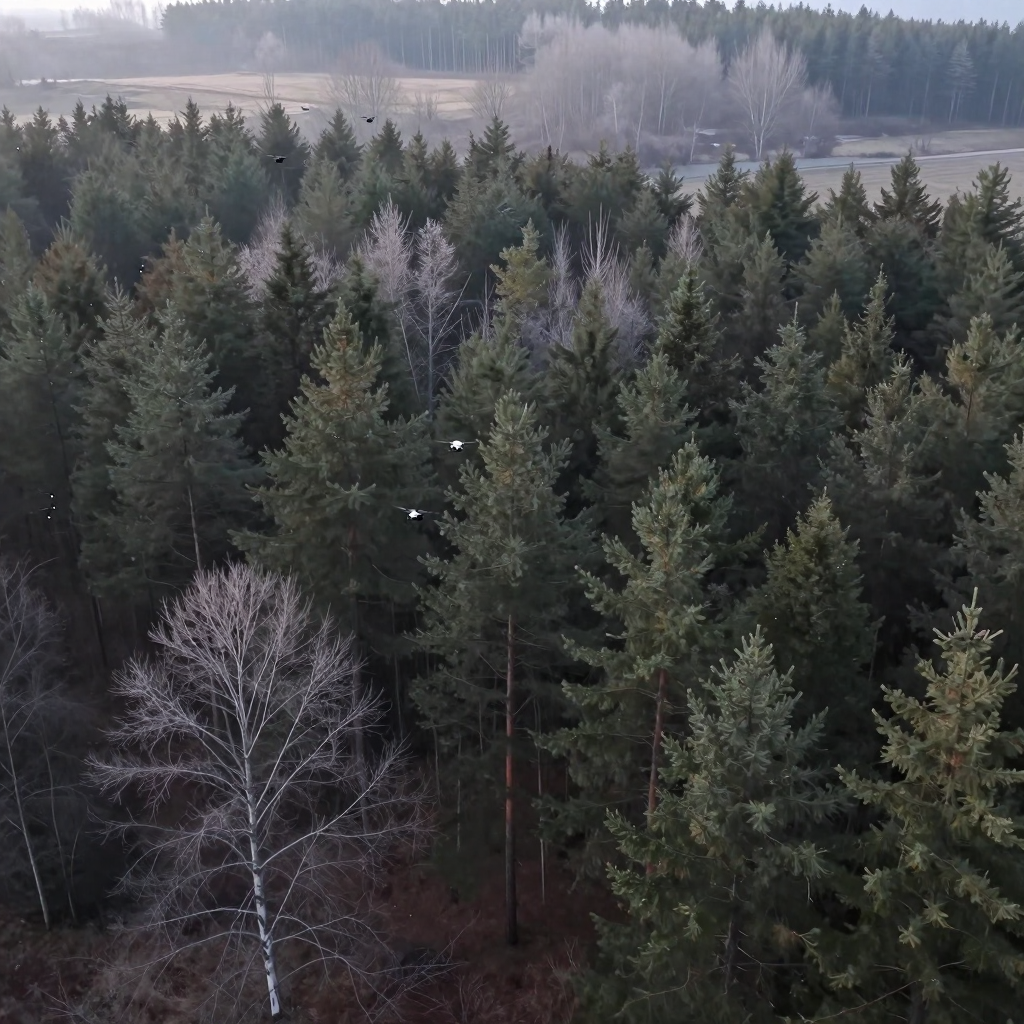drone: (432, 432, 485, 458), (392, 498, 441, 523), (262, 152, 295, 166)
